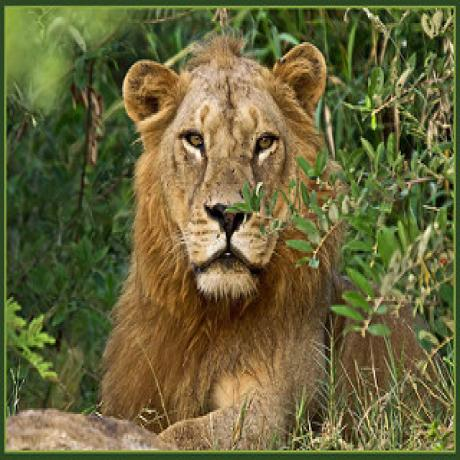Lion: (107, 39, 428, 442)
